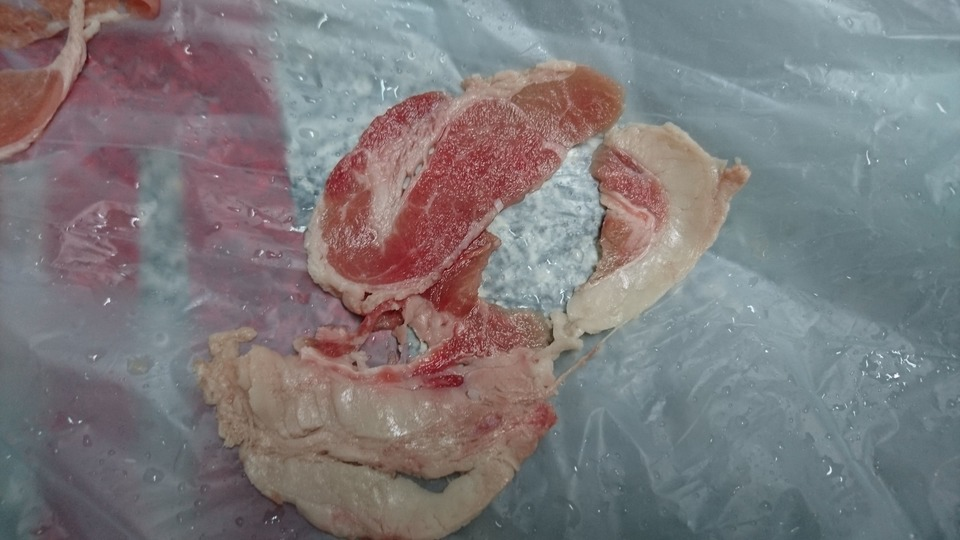restructured meat: (208, 64, 723, 530)
